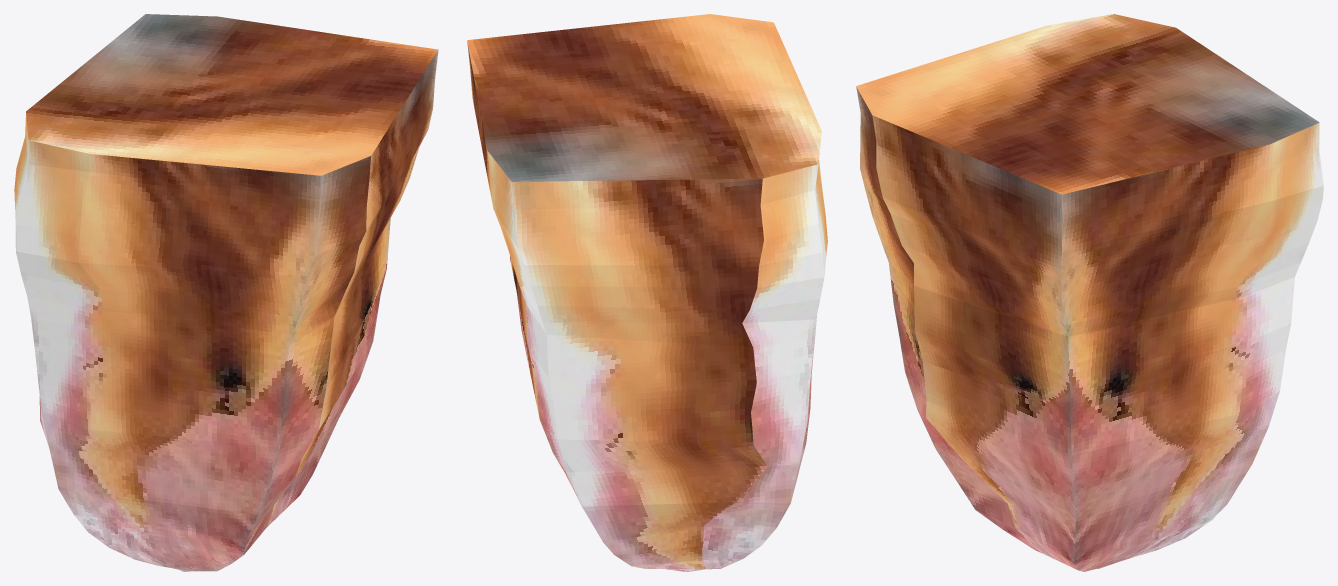
3 renders of one model, left to right at view 1: azimuth 30°, elevation 25°; view 2: azimuth 150°, elevation 25°; view 3: azimuth 270°, elevation 25°, orthographic. The views are drawn at different scales.
Visible parts, largest first — view 1: SPLICE_1.005; view 2: SPLICE_1.005; view 3: SPLICE_1.005.
Part boxes in pixels (bbox=[...]): SPLICE_1.005: bbox=[14, 14, 438, 571]; SPLICE_1.005: bbox=[467, 14, 827, 571]; SPLICE_1.005: bbox=[856, 14, 1323, 571].
Bounding box in the file's own units: 1.45 × 1.67 × 1.43.
Materials: 1 (1 with a texture image).
